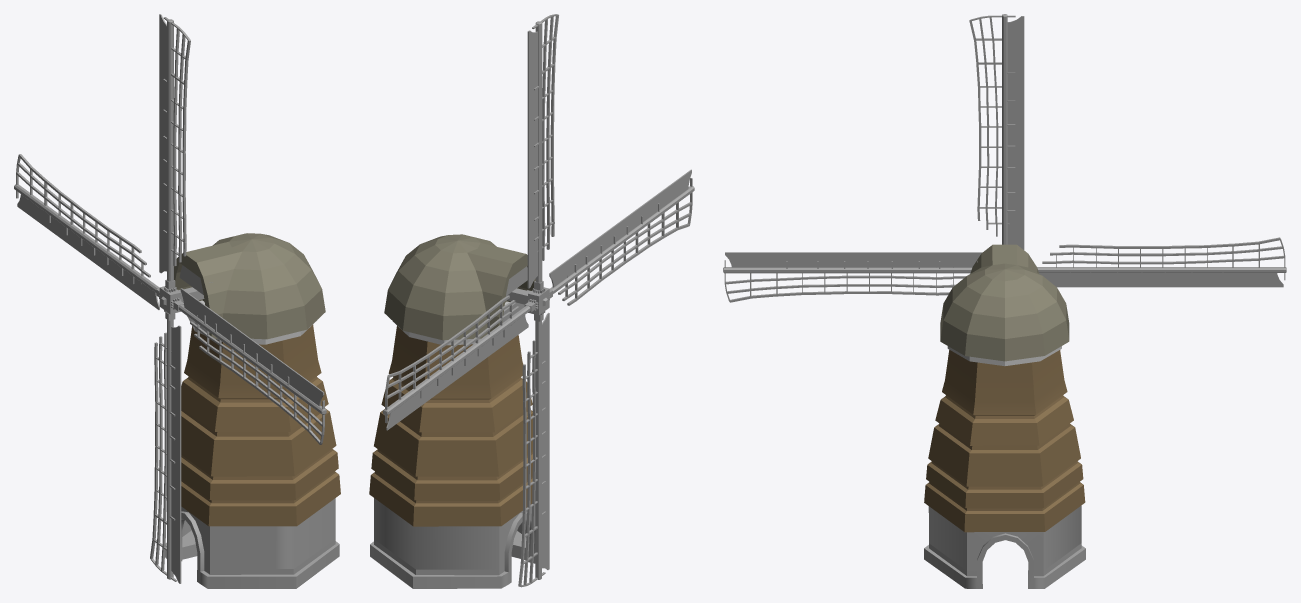
Rendered from windmill_placeholder.fbx.
3 views of the same model, side by side, from view 1: azimuth 30°, elevation 25°; view 2: azimuth 150°, elevation 25°; view 3: azimuth 270°, elevation 25° (orthographic). The views are drawn at different scales.
Visible parts, largest first — view 1: pCylinder12, pSphere11, pCube186, pPlane4, pCylinder16, pCube138, pPlane3, pCube113, pPlane2, pPlane1, pCube114, pCube112 (+5 smaller); view 2: pCylinder12, pSphere11, pCube186, pPlane3, pCylinder16, pCube112, pPlane4, pCube113, pPlane2, pPlane1, pCube114, pCube138 (+5 smaller); view 3: pCylinder12, pSphere11, pCube186, pCube112, pCube113, pCube114, pPlane2, pPlane1, pCylinder16, pPlane4, pCube76, pCube124 (+1 smaller).
Boxes of the visible parts, x1=… form: pCylinder12: x1=181, y1=325, x2=340, y2=526; pSphere11: x1=174, y1=233, x2=325, y2=339; pCube186: x1=181, y1=498, x2=335, y2=574; pPlane4: x1=163, y1=17, x2=190, y2=266; pCylinder16: x1=165, y1=511, x2=339, y2=588; pCube138: x1=171, y1=325, x2=181, y2=583; pPlane3: x1=150, y1=332, x2=177, y2=581; pCube113: x1=180, y1=288, x2=324, y2=406; pPlane2: x1=16, y1=154, x2=150, y2=283; pPlane1: x1=190, y1=315, x2=324, y2=444; pCube114: x1=17, y1=194, x2=159, y2=309; pCube112: x1=159, y1=14, x2=166, y2=273; pCylinder12: x1=369, y1=326, x2=532, y2=526; pSphere11: x1=384, y1=234, x2=535, y2=340; pCube186: x1=374, y1=498, x2=535, y2=575; pPlane3: x1=518, y1=340, x2=545, y2=587; pCylinder16: x1=370, y1=512, x2=535, y2=588; pCube112: x1=527, y1=30, x2=537, y2=288; pPlane4: x1=532, y1=14, x2=558, y2=260; pCube113: x1=549, y1=169, x2=691, y2=287; pPlane2: x1=385, y1=295, x2=519, y2=423; pPlane1: x1=558, y1=178, x2=692, y2=305; pCube114: x1=386, y1=315, x2=528, y2=430; pCube138: x1=542, y1=312, x2=549, y2=569; pCylinder12: x1=924, y1=350, x2=1085, y2=532; pSphere11: x1=940, y1=244, x2=1069, y2=361; pCube186: x1=928, y1=505, x2=1081, y2=576; pCube112: x1=1007, y1=16, x2=1024, y2=249; pCube113: x1=725, y1=252, x2=982, y2=267; pCube114: x1=1039, y1=273, x2=1283, y2=287; pPlane2: x1=1042, y1=237, x2=1285, y2=280; pPlane1: x1=724, y1=260, x2=966, y2=302; pCylinder16: x1=924, y1=533, x2=1085, y2=588; pPlane4: x1=969, y1=15, x2=1015, y2=236; pCube76: x1=723, y1=267, x2=971, y2=273; pCube124: x1=1037, y1=267, x2=1286, y2=272.
Size of the model in its own units: 48.47 by 165 by 165.
